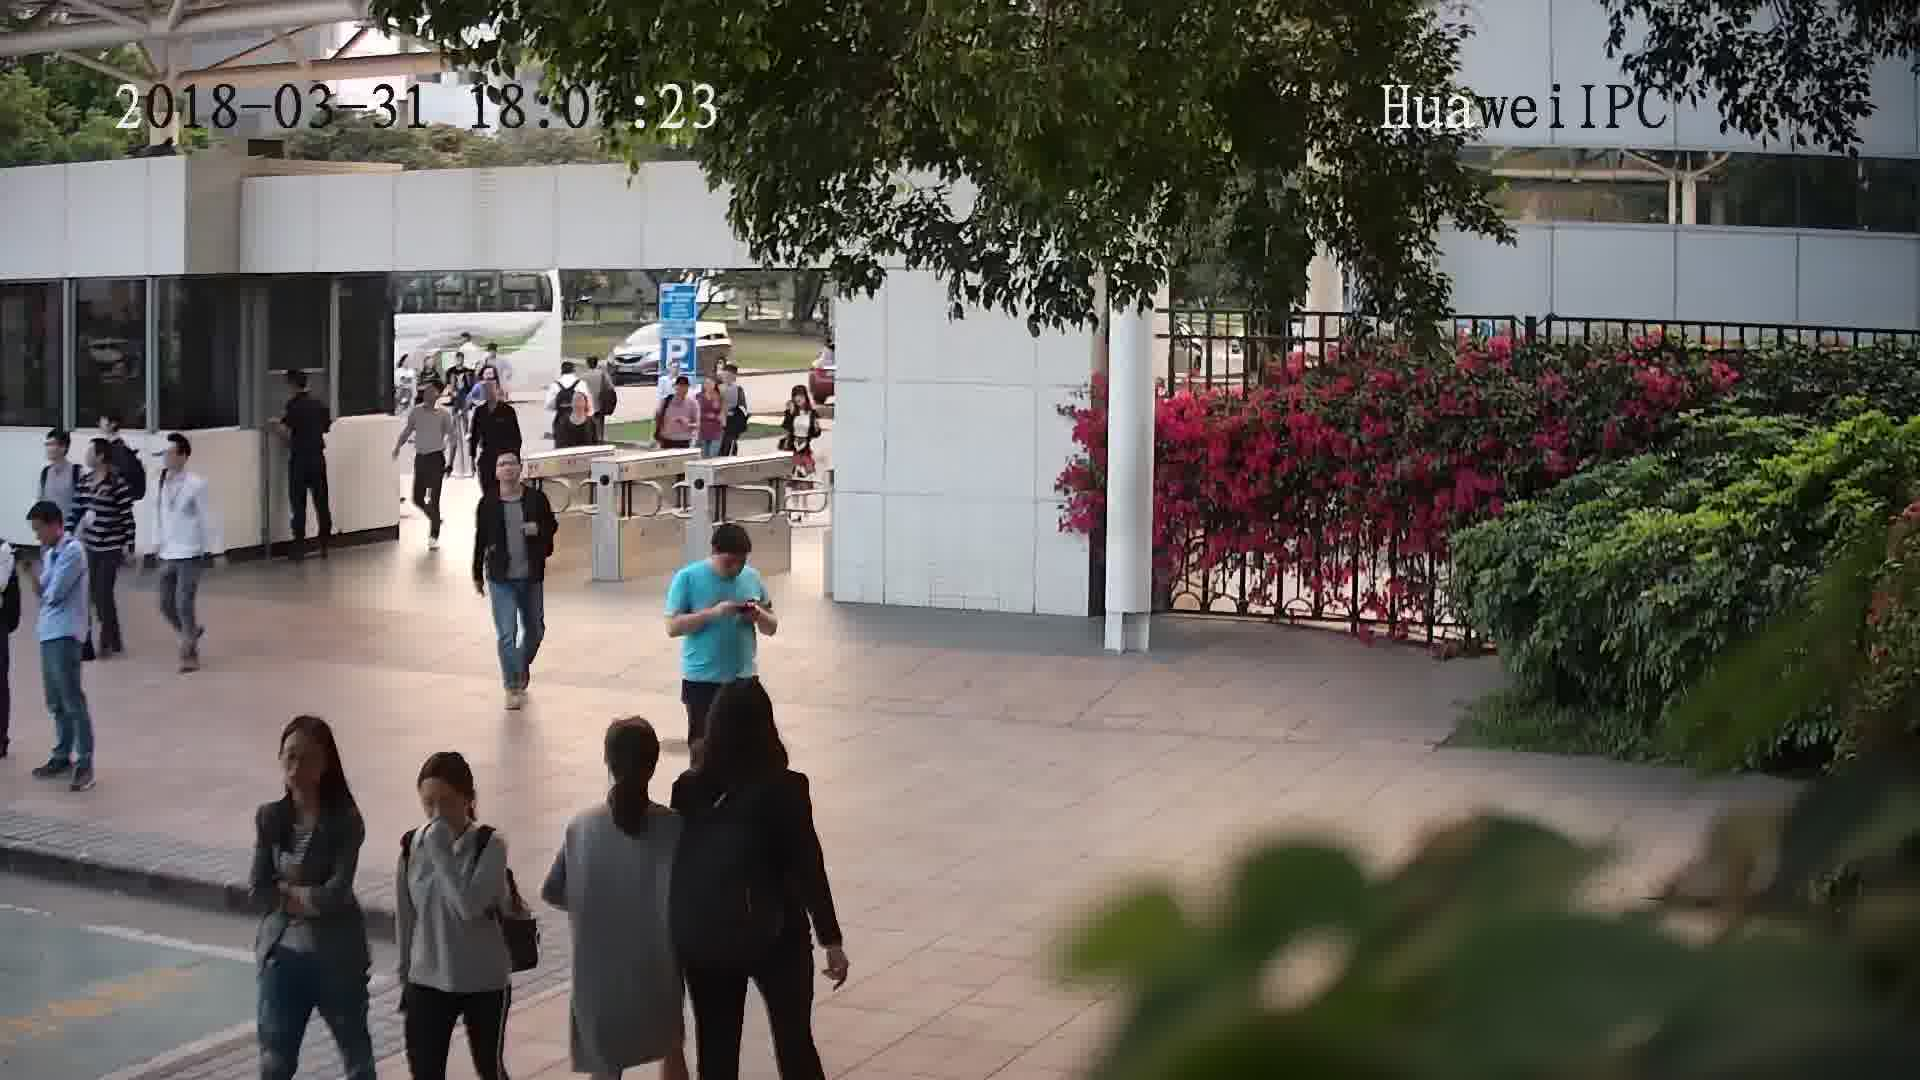face: (269, 732, 332, 794), (411, 776, 471, 833), (490, 451, 524, 486)
person: (675, 677, 809, 806), (563, 712, 679, 854), (254, 714, 366, 839), (398, 748, 513, 867), (673, 522, 763, 594), (473, 447, 551, 517), (23, 495, 91, 573), (155, 429, 211, 497), (87, 436, 137, 494), (42, 425, 89, 480), (279, 362, 327, 416), (406, 378, 455, 423), (473, 375, 517, 425), (658, 369, 701, 410), (545, 361, 591, 398), (691, 375, 729, 414), (562, 391, 603, 428), (785, 381, 817, 418), (655, 358, 688, 389), (447, 352, 473, 381), (419, 354, 442, 380)
